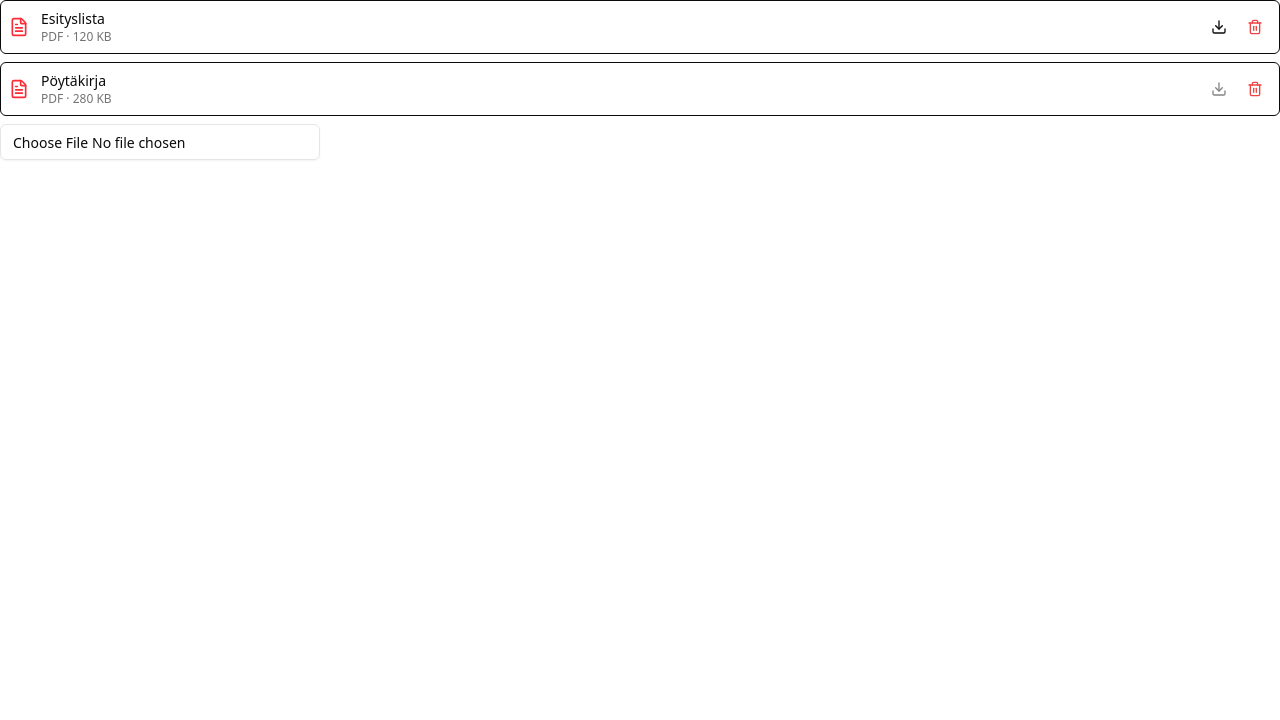
it: MeetingDocumentList › opens delete confirmation dialog when delete button clicked
Click the button without text in the row of "120 KB": [1255, 27] box [1239,11,1271,43]
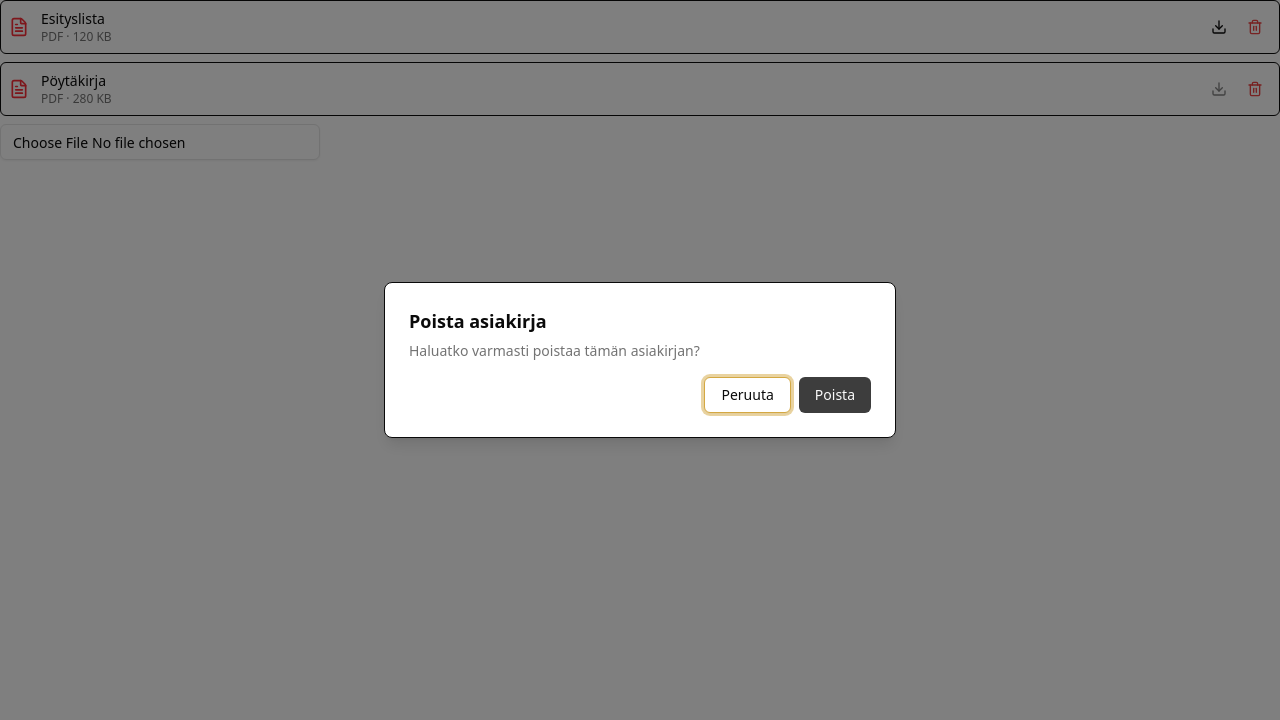
Check: the text "Haluatko varmasti poistaa tämän asiakirjan?" is shown, box [409,341,700,361]
